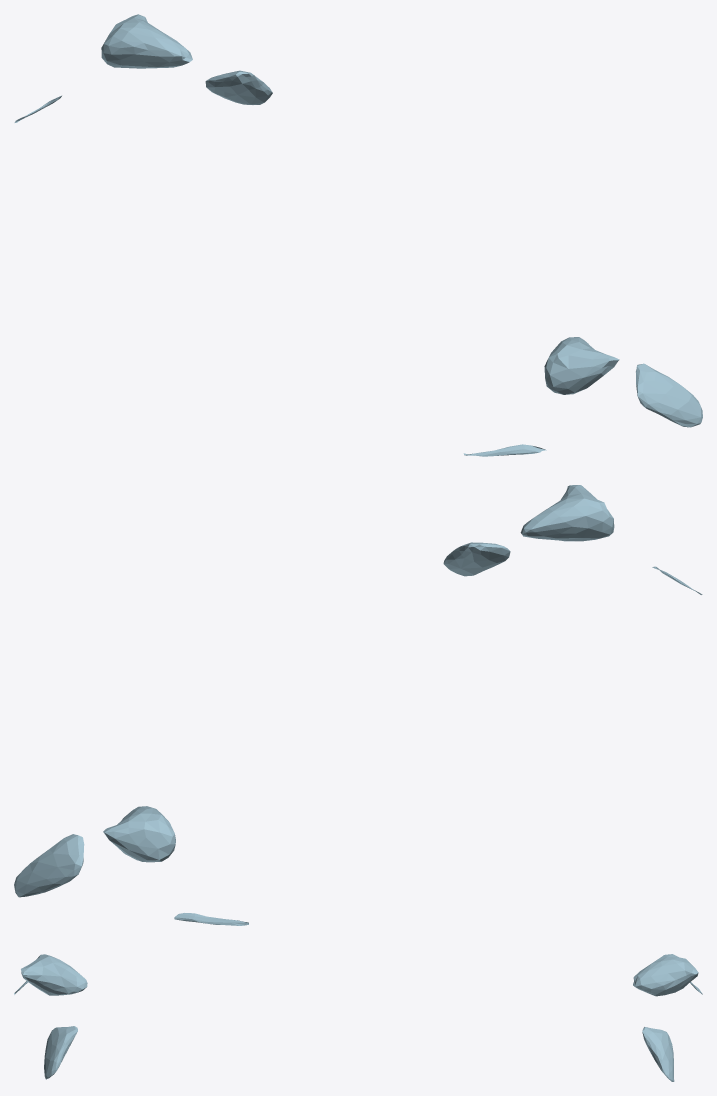
3 views of the same model, one above another, from view 1: azimuth 30°, elevation 25°; view 2: azimuth 150°, elevation 25°; view 3: azimuth 270°, elevation 25° (orthographic). The views are drawn at different scales.
Visible parts, largest first — view 1: 1105.obj; view 2: 1105.obj; view 3: 1105.obj.
Part boxes in pixels (x1=…): 1105.obj: x1=14, y1=14, x2=702, y2=456; 1105.obj: x1=14, y1=485, x2=702, y2=925; 1105.obj: x1=14, y1=954, x2=702, y2=1081.
Bounding box in the file's own units: 1876 × 808 × 6276.
